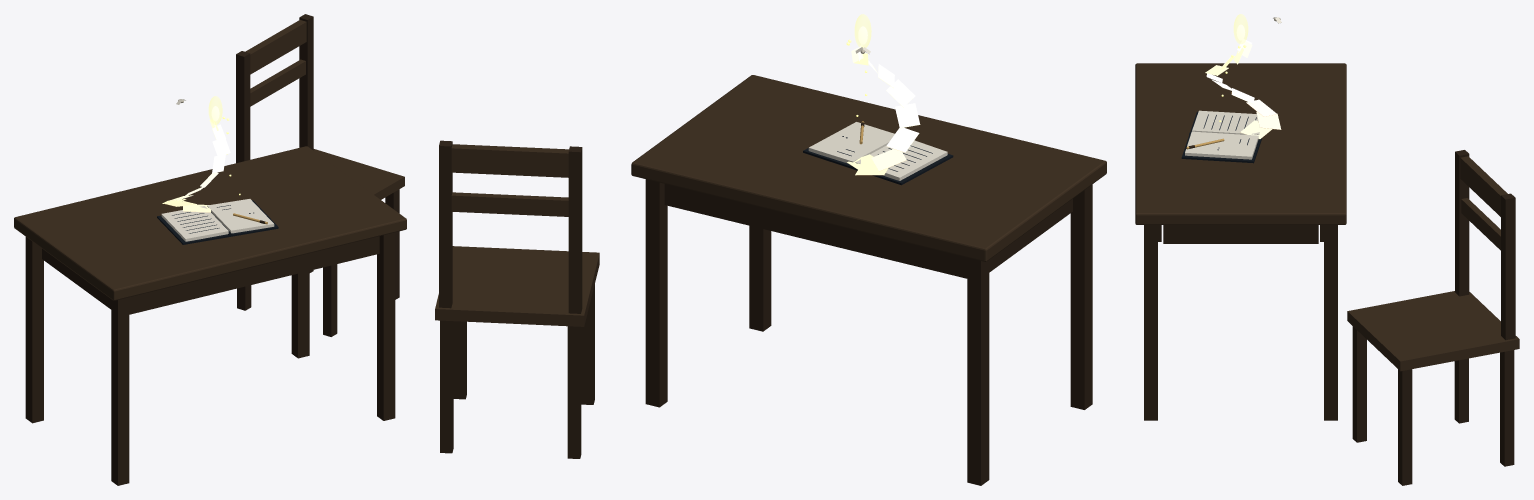
The model's file is likeness.glb.
3 renders of one model, left to right at view 1: azimuth 30°, elevation 25°; view 2: azimuth 150°, elevation 25°; view 3: azimuth 270°, elevation 25°, orthographic. The views are drawn at different scales.
Parts seen in each view (by area): view 1: desktop, deskapronf, deskleg1, deskleg2, deskleg3, chairstiler, chairstilel, chairseat, deskleg4, chaircrest, pageleft, pageright (+5 smaller); view 2: desktop, chairseat, deskapronb, deskleg3, deskleg4, deskleg1, chaircrest, chairstilel, chairslat, deskleg2, chairstiler, pageright (+6 smaller); view 3: desktop, chairseat, deskaprons2, deskleg2, deskleg4, chairstiler, chairstilel, chairleg2, chairleg4, chairleg1, pageright, chaircrest (+4 smaller).
Boxes of the visible parts, x1,y1,x2,y2 form: desktop: (14,146,406,300); deskapronf: (129,236,379,314); deskleg1: (111,297,129,485); deskleg2: (377,232,395,420); deskleg3: (25,237,43,423); chairstiler: (299,14,313,150); chairstilel: (236,51,250,163); chairseat: (313,149,404,199); deskleg4: (291,271,309,358); chaircrest: (245,20,306,74); pageleft: (161,206,228,241); pageright: (207,199,274,233); desktop: (631,75,1106,261); chairseat: (435,246,599,326); deskapronb: (664,184,967,278); deskleg3: (967,257,989,485); deskleg4: (645,179,667,407); deskleg1: (1070,184,1092,409); chaircrest: (451,144,568,177); chairstilel: (568,146,582,313); chairslat: (451,192,568,216); deskleg2: (749,225,771,331); chairstiler: (439,140,452,308); pageright: (808,122,894,163); desktop: (1135,63,1346,224); chairseat: (1347,291,1519,371); deskaprons2: (1163,225,1318,243); deskleg2: (1144,225,1157,420); deskleg4: (1324,225,1337,420); chairstiler: (1501,193,1515,340); chairstilel: (1455,150,1469,296); chairleg2: (1398,369,1412,485); chairleg4: (1500,350,1514,466); chairleg1: (1352,326,1366,442); pageright: (1185,131,1258,159); chaircrest: (1460,156,1507,216).
Size of what is drawn, in the model's own units: 1.63 by 1.2 by 1.24.
